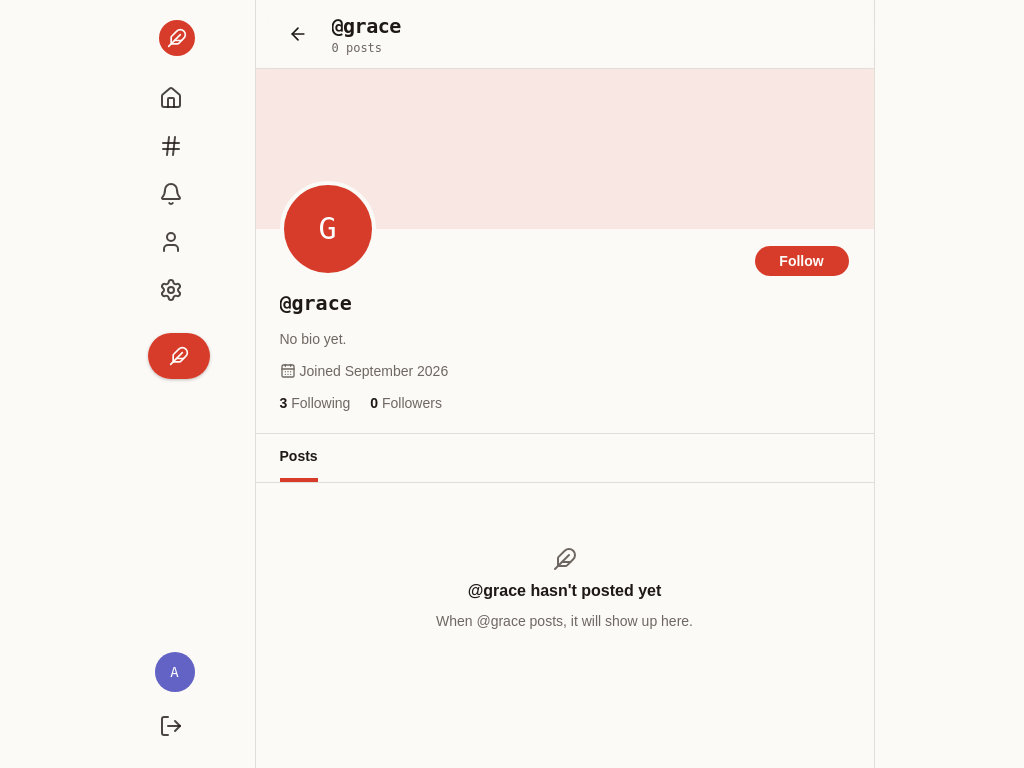
Scenario: Profile › follows › follows another user from their profile, updating the button and follower count
Expected: the heading "@grace" is shown, [332, 14, 401, 38]
Expected: the button "0 Followers" is shown, [370, 393, 442, 413]
Click the button with aria-label "Follow @grace" at (802, 261), box [754, 245, 850, 277]
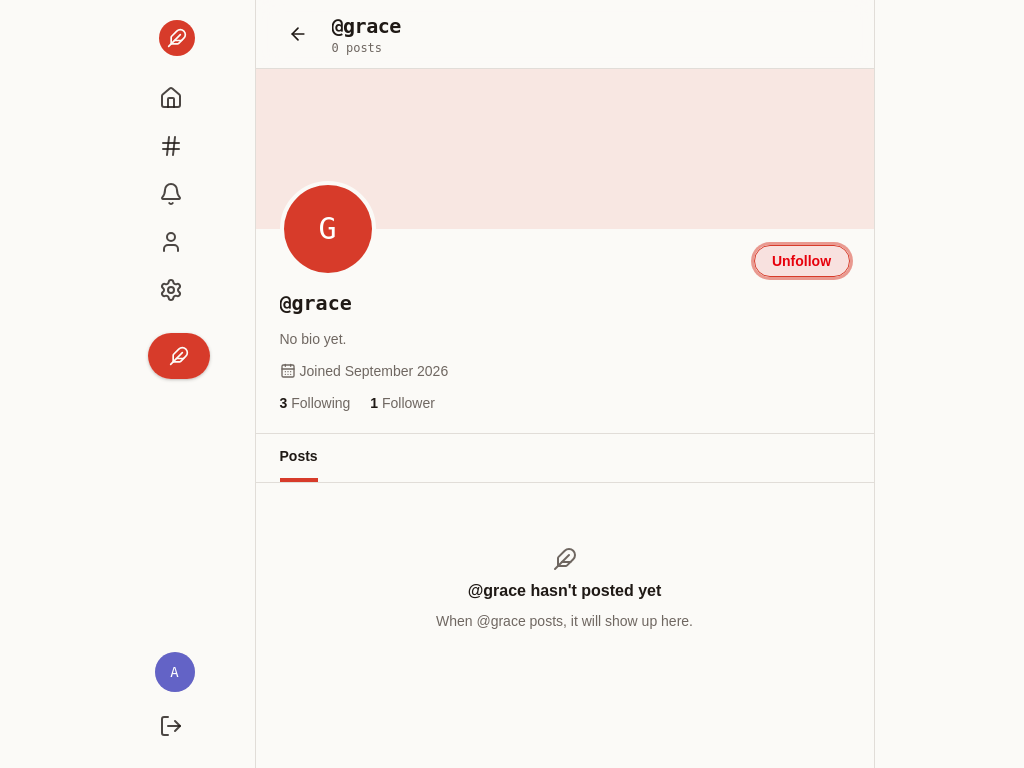
Now the button with aria-label "Unfollow @grace" is shown, box [754, 245, 850, 277]
Now the button "1 Follower" is shown, box [370, 393, 435, 413]
